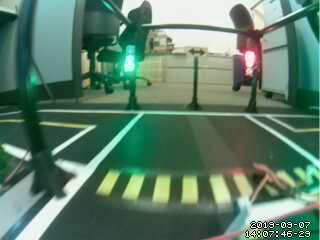Left_Right_sign: (181, 44, 213, 60)
Traffic_light_green: (124, 46, 134, 71)
Traffic_light_red: (244, 50, 258, 84)
